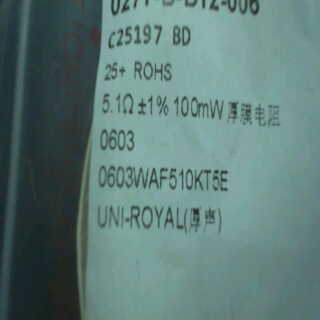5.1R: (101, 86, 135, 120)
